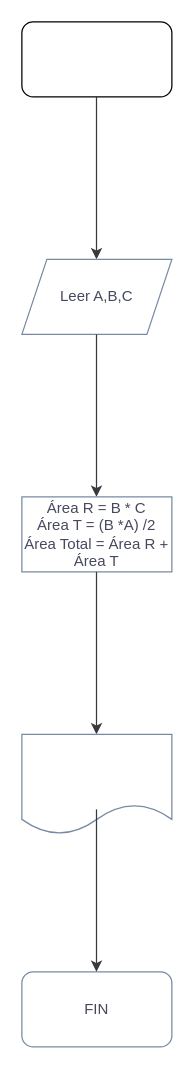
The diagram is 194 pixels wide and 1069 high, and some of its shapes have lost their labels. The shapes that lost their labels are listed below. From the top down, each one's centre as x and y in pixels, then its label:
the point at 96,59: Inicio
the point at 96,783: Mostrar Promedio
